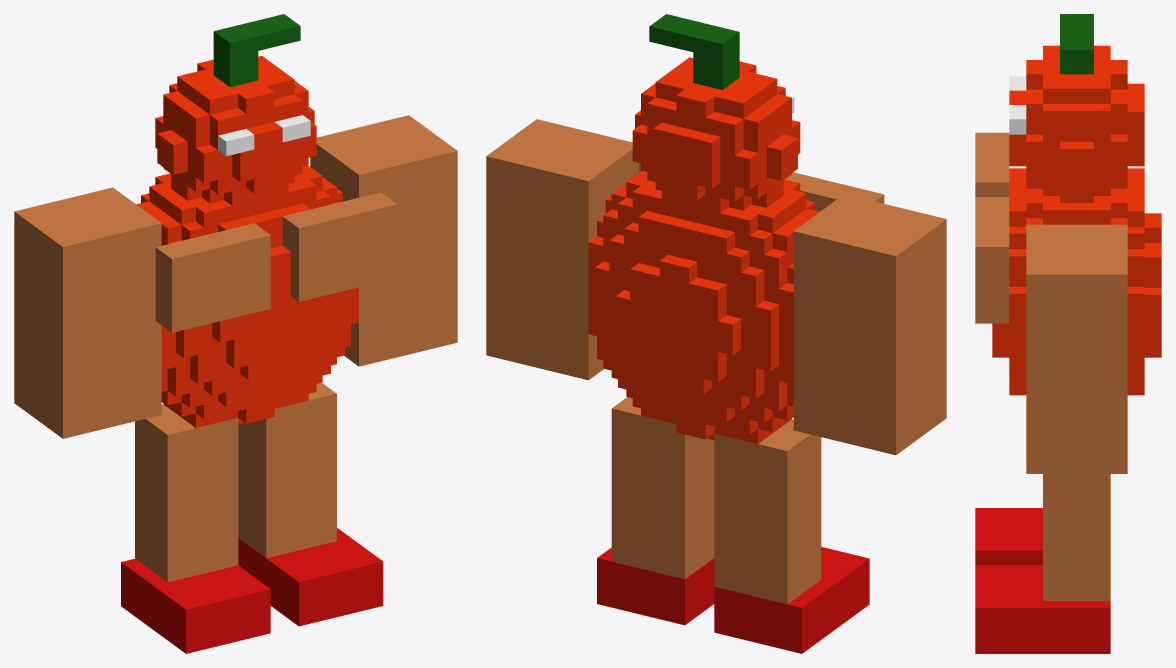
File: odin_din_din_dun.glb
3 views of the same model, side by side, from view 1: azimuth 30°, elevation 25°; view 2: azimuth 150°, elevation 25°; view 3: azimuth 270°, elevation 25° (orthographic). The views are drawn at different scales.
Parts seen in each view (by area): view 1: brainrot; view 2: brainrot; view 3: brainrot.
Boxes of the visible parts, box(x1,y1,x2,y2) form: brainrot: box(14, 14, 457, 653); brainrot: box(486, 14, 946, 653); brainrot: box(975, 14, 1161, 653).
Bounding box in the file's own units: 4.27 × 5.8 × 1.68.
1 material, 1 textured.
